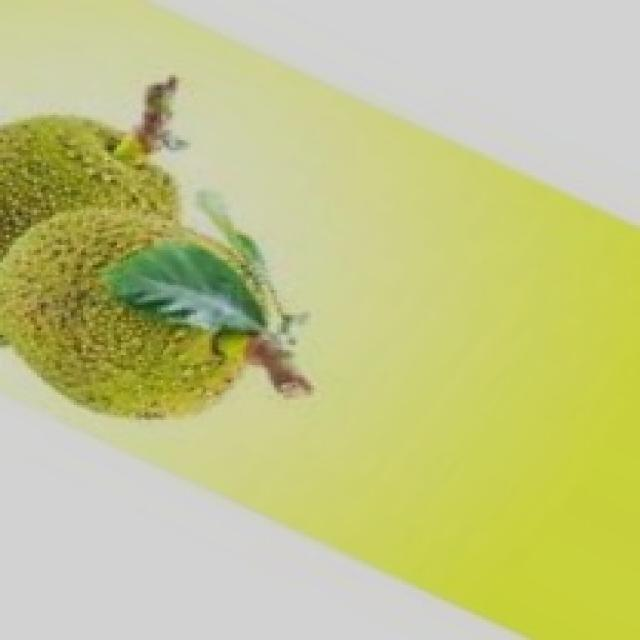Fruit: (0, 105, 308, 457)
